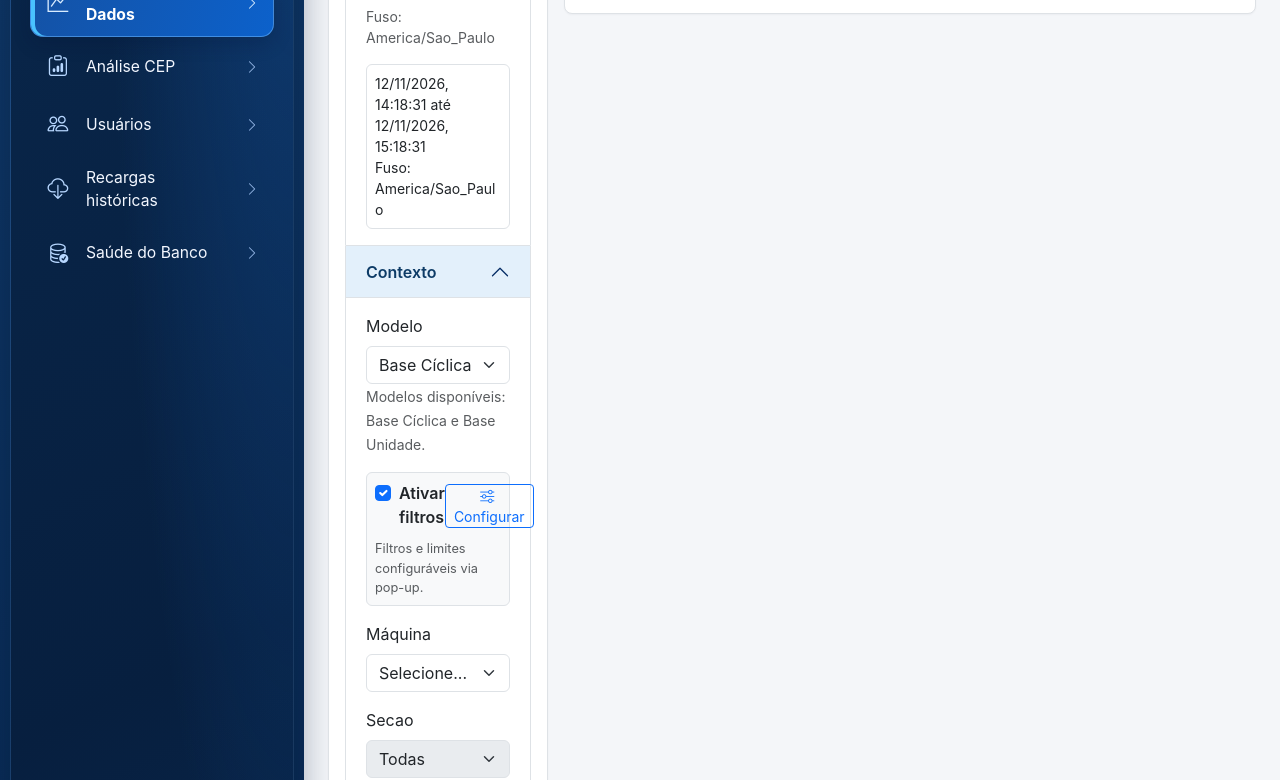
Test: Base Cíclica - Filtros e Limites Vinculados às Tags › exibe opção visível para ativar filtros na Base Cíclica e a oculta na Base Unidade
(page scrolled)
Expected: the checkbox with test id "cyclic-filters-switch" is checked, [375, 485, 391, 501]
// Muda para Base Unidade
Select "Base Unidade" in the dropdown with test id "analysis-model" at (438, 365), box [366, 346, 510, 384]
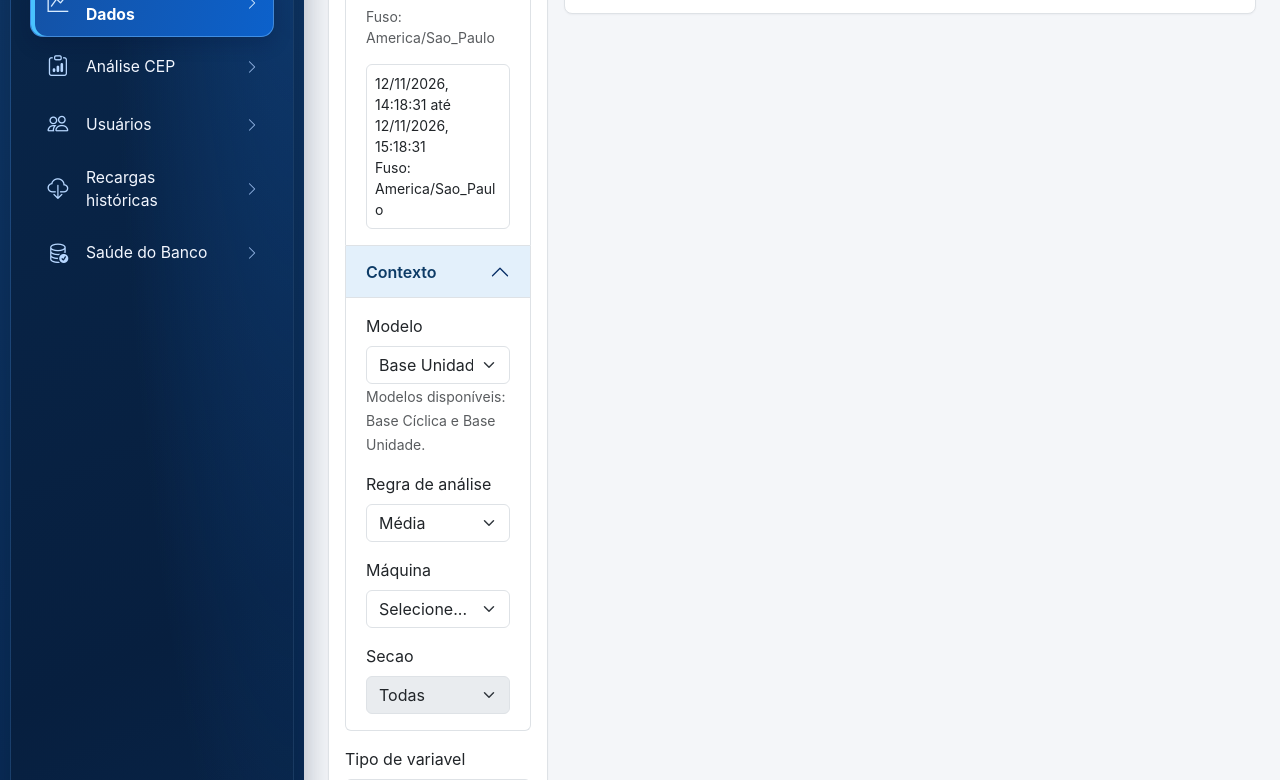
Expected: the checkbox with test id "cyclic-filters-switch" is gone
// Volta para Base Cíclica
Select "Base Cíclica" in the dropdown with test id "analysis-model" at (438, 365), box [366, 346, 510, 384]
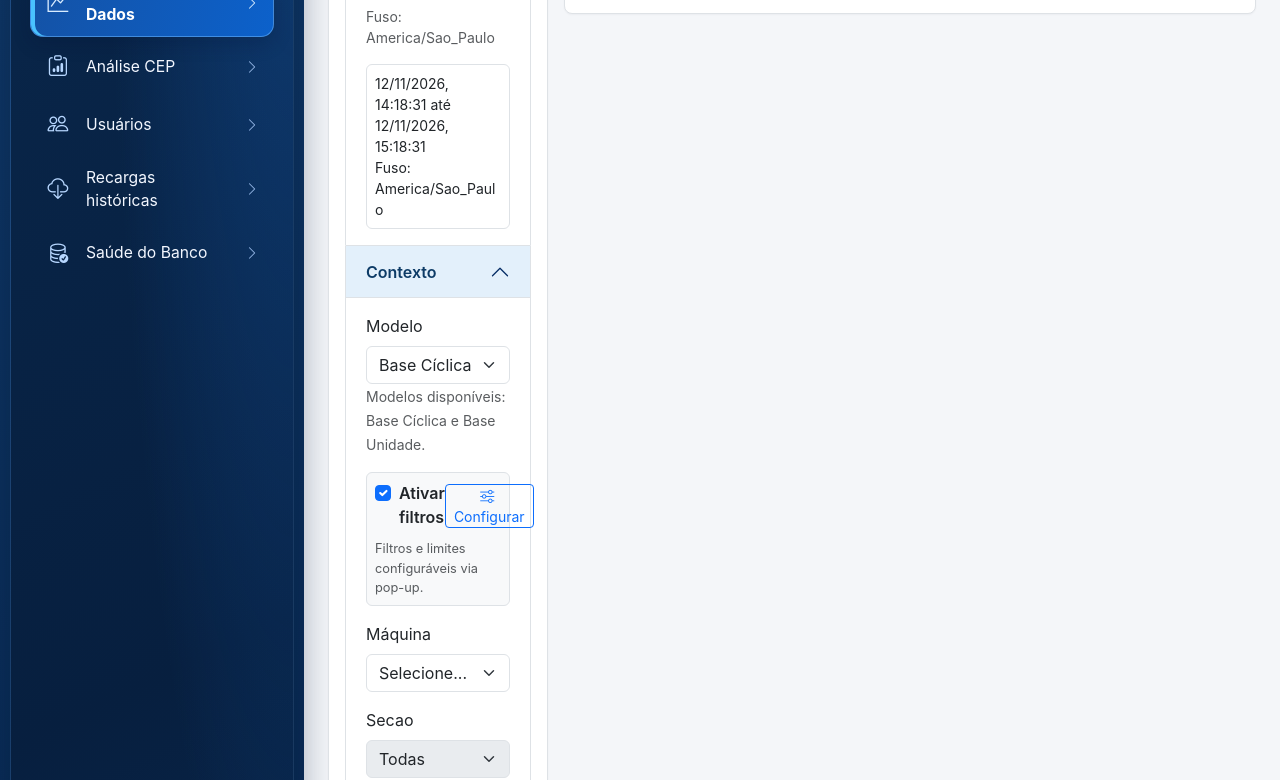
Expected: the checkbox with test id "cyclic-filters-switch" is shown, [375, 485, 391, 501]
